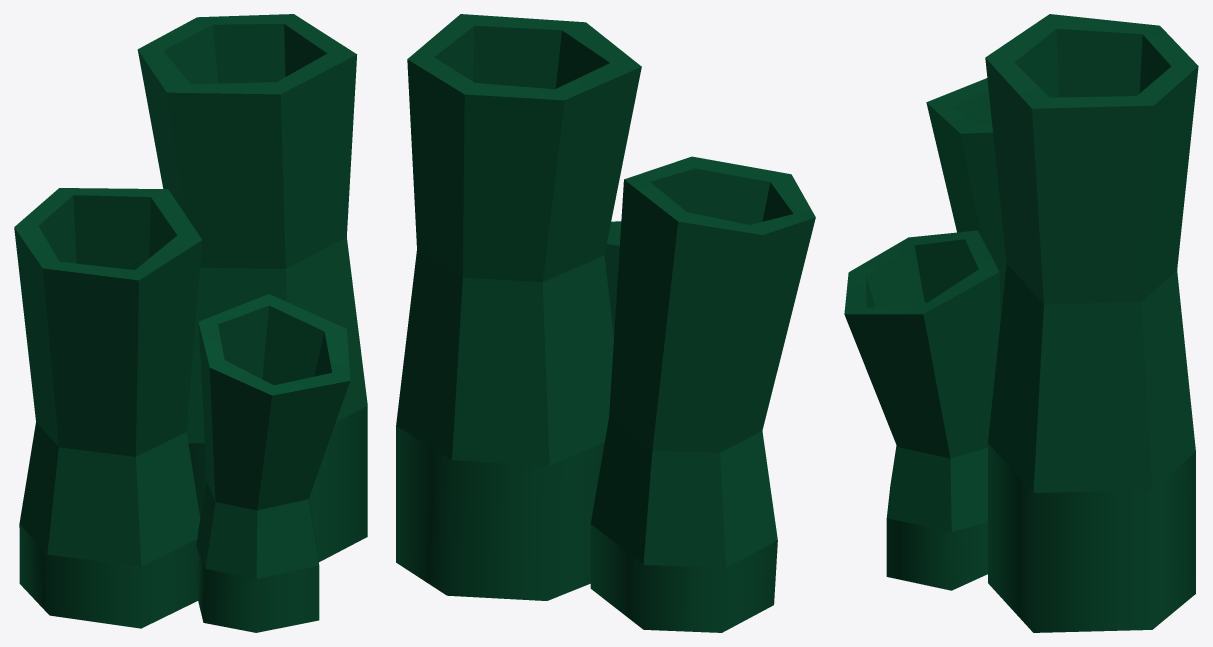
Rendered from Underwater Stuff 1.2.fbx.
The picture shows the model from 3 angles, left to right: view 1: azimuth 30°, elevation 25°; view 2: azimuth 150°, elevation 25°; view 3: azimuth 270°, elevation 25°; orthographic projection. The views are drawn at different scales.
Parts seen in each view (by area): view 1: pasted__pasted__pPipe1 (×2), pasted__pPipe1; view 2: pasted__pasted__pPipe1 (×2), pasted__pPipe1; view 3: pasted__pasted__pPipe1 (×2), pasted__pPipe1.
Part boxes in pixels (x1,y1,x2,y2): pasted__pasted__pPipe1 (×2): (137,14,367,632); pasted__pPipe1: (14,188,202,628); pasted__pasted__pPipe1 (×2): (396,14,641,600); pasted__pPipe1: (590,156,815,632); pasted__pasted__pPipe1 (×2): (844,14,1198,632); pasted__pPipe1: (926,78,1006,322).
Size of the model in its own units: 7.59 by 10.53 by 6.44.
